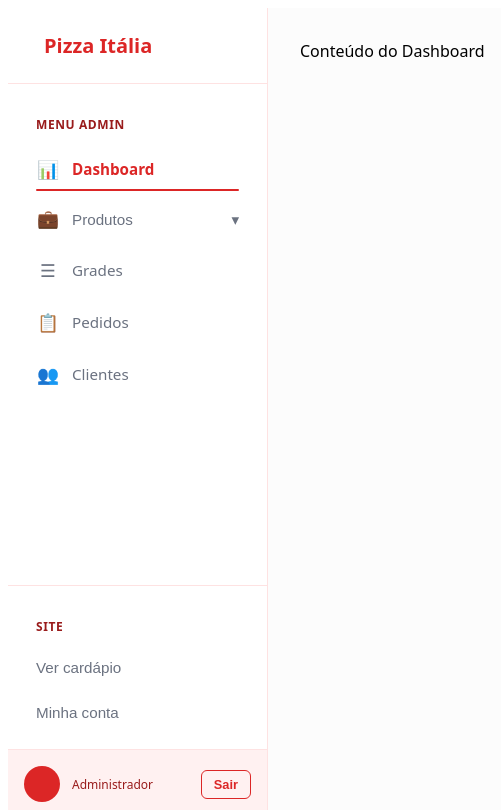
Test: AdminLayout › clicar em 'Produtos' abre/fecha o submenu
This screenshot has width=501, height=810.
Click the text "Produtos": click(102, 220) [72,211,133,228]
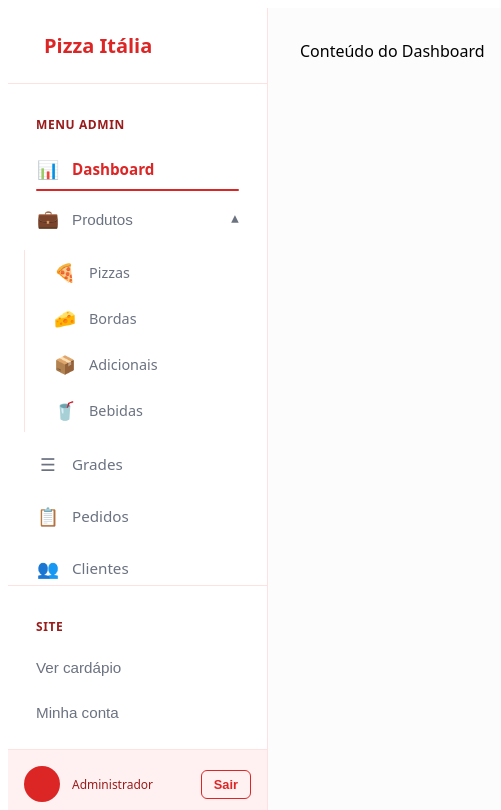
Check: the text "Bordas" is shown, box [89,308,136,328]
Click the text "Produtos": click(102, 220) [72,211,133,228]
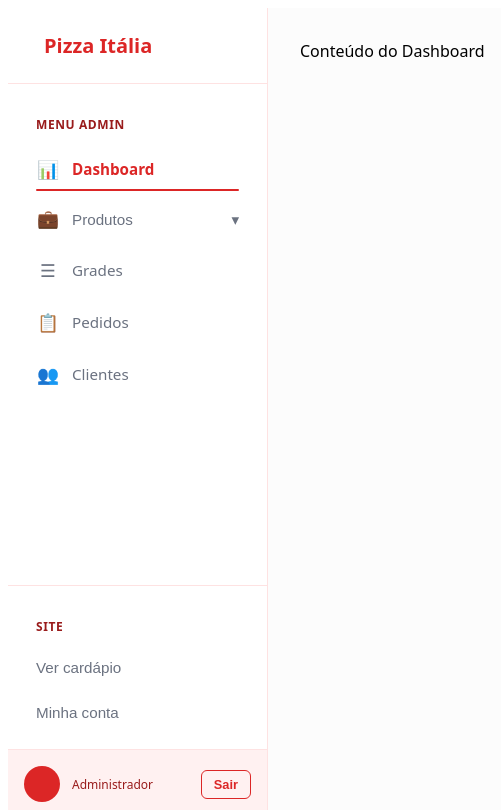
Check: the link "Bordas" is gone
